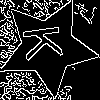K: (22, 22, 72, 62)
